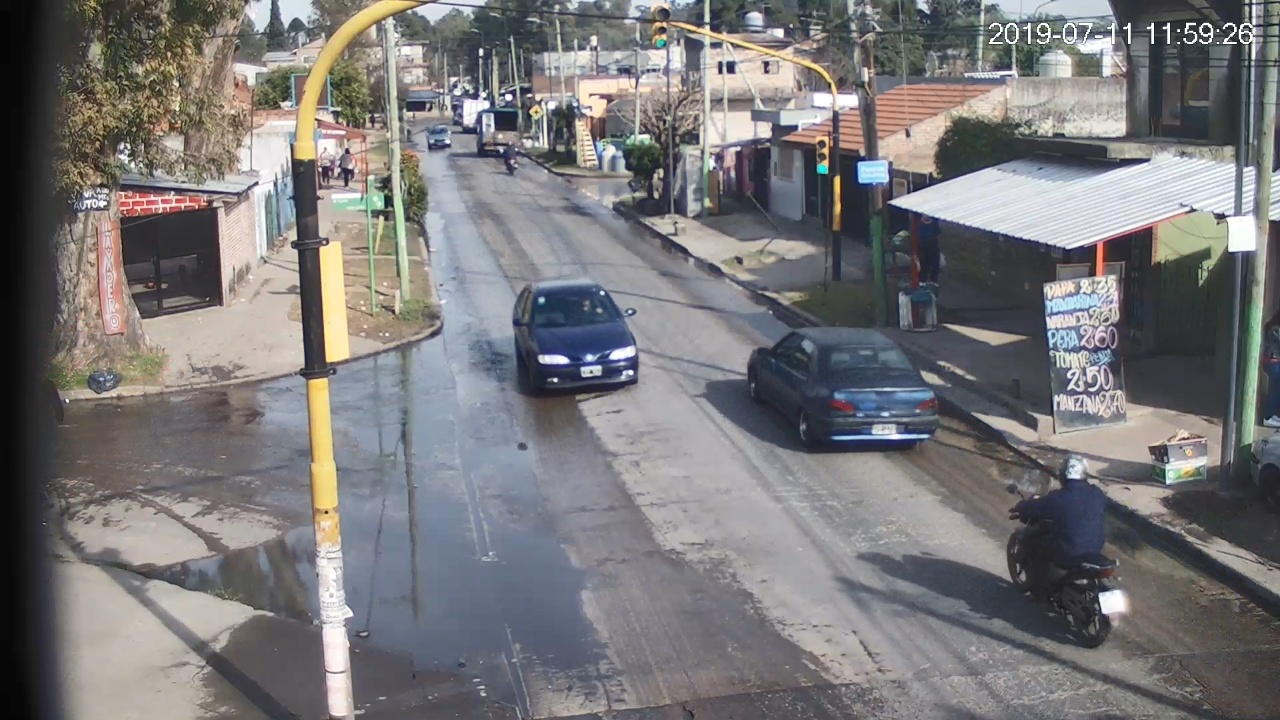car: (747, 327, 939, 450)
front car: (513, 278, 639, 391)
motorcycle: (1007, 483, 1127, 649)
traffic light: (653, 5, 669, 48), (816, 138, 828, 174)
